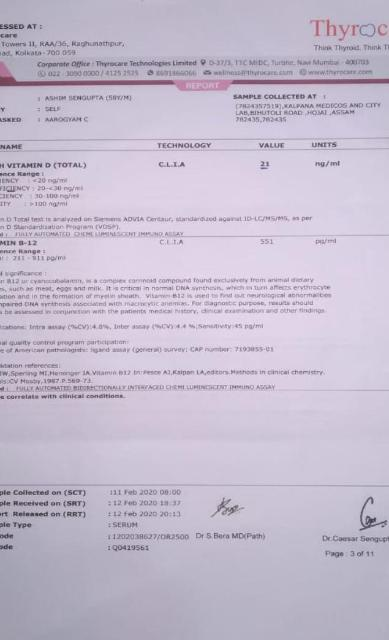Clinical_Conditions: (0, 268, 336, 318)
Name: (42, 94, 134, 102)
Ref_By: (44, 106, 65, 112)
Technology: (153, 158, 193, 172), (158, 237, 190, 249)
Test_Asked: (43, 114, 91, 125)
Test_Name: (0, 158, 90, 210), (0, 239, 73, 264)
Unit: (314, 156, 344, 173), (313, 236, 346, 248)
Value: (257, 158, 276, 175), (258, 235, 278, 248)
